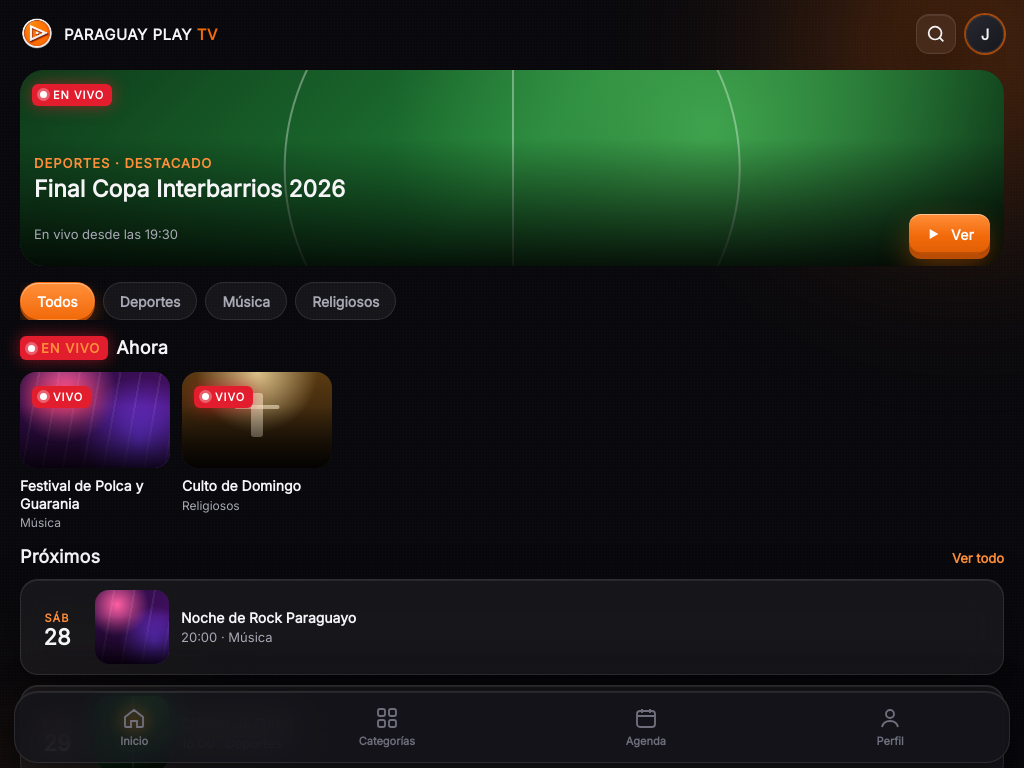
chip de categoría filtra las filas
The image size is (1024, 768).
Check: the heading "Festival de Polca y Guarania" is shown, box [20,477,143,512]
Click the button "Religiosos". click: x=346, y=301
box: [295,282,396,320]
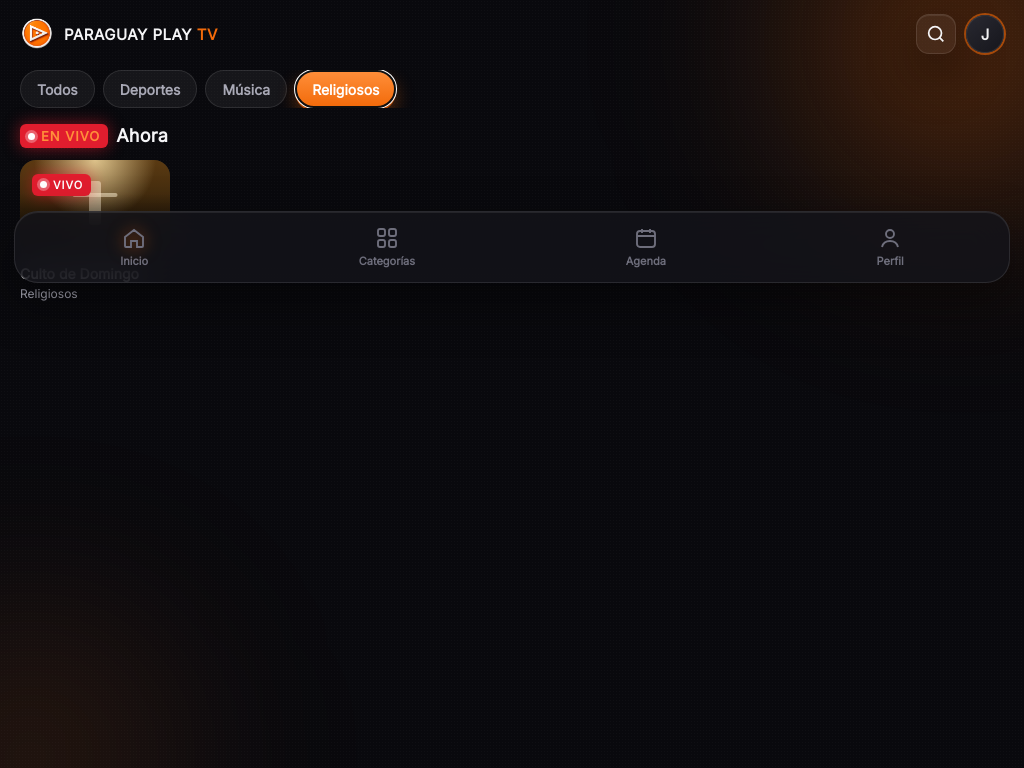
Check: the heading "Culto de Domingo" is shown, box [20,265,139,282]
Check: the link "Festival de Polca y Guarania" is gone
